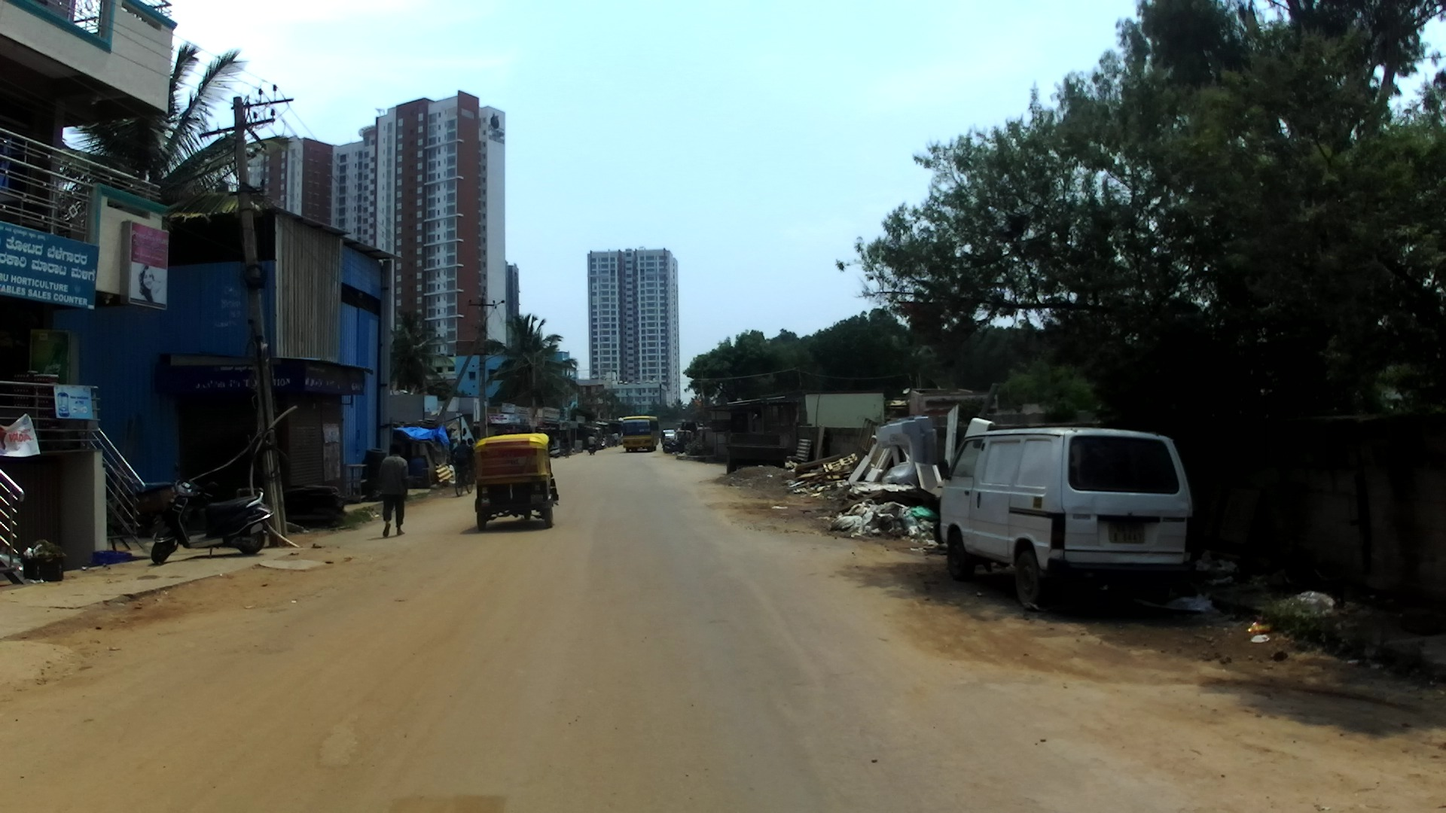autorickshaw: (474, 433, 554, 531), (676, 430, 692, 446)
bicycle: (455, 461, 474, 498), (565, 449, 569, 458)
bus: (621, 416, 659, 452)
car: (661, 430, 676, 445)
caravan: (932, 426, 1195, 607)
motorcycle: (149, 461, 276, 566), (661, 438, 685, 454), (548, 446, 560, 458), (587, 441, 596, 455), (598, 437, 606, 450)
person: (377, 442, 410, 539), (678, 431, 690, 453), (660, 429, 666, 449), (467, 437, 474, 453), (606, 431, 611, 448), (611, 432, 615, 447), (602, 432, 606, 446), (615, 431, 618, 446)
rider: (450, 439, 474, 489), (549, 470, 560, 507), (587, 433, 597, 452), (564, 440, 570, 449)
vehicle fallback: (681, 422, 697, 431), (674, 422, 682, 430), (665, 428, 674, 430)
